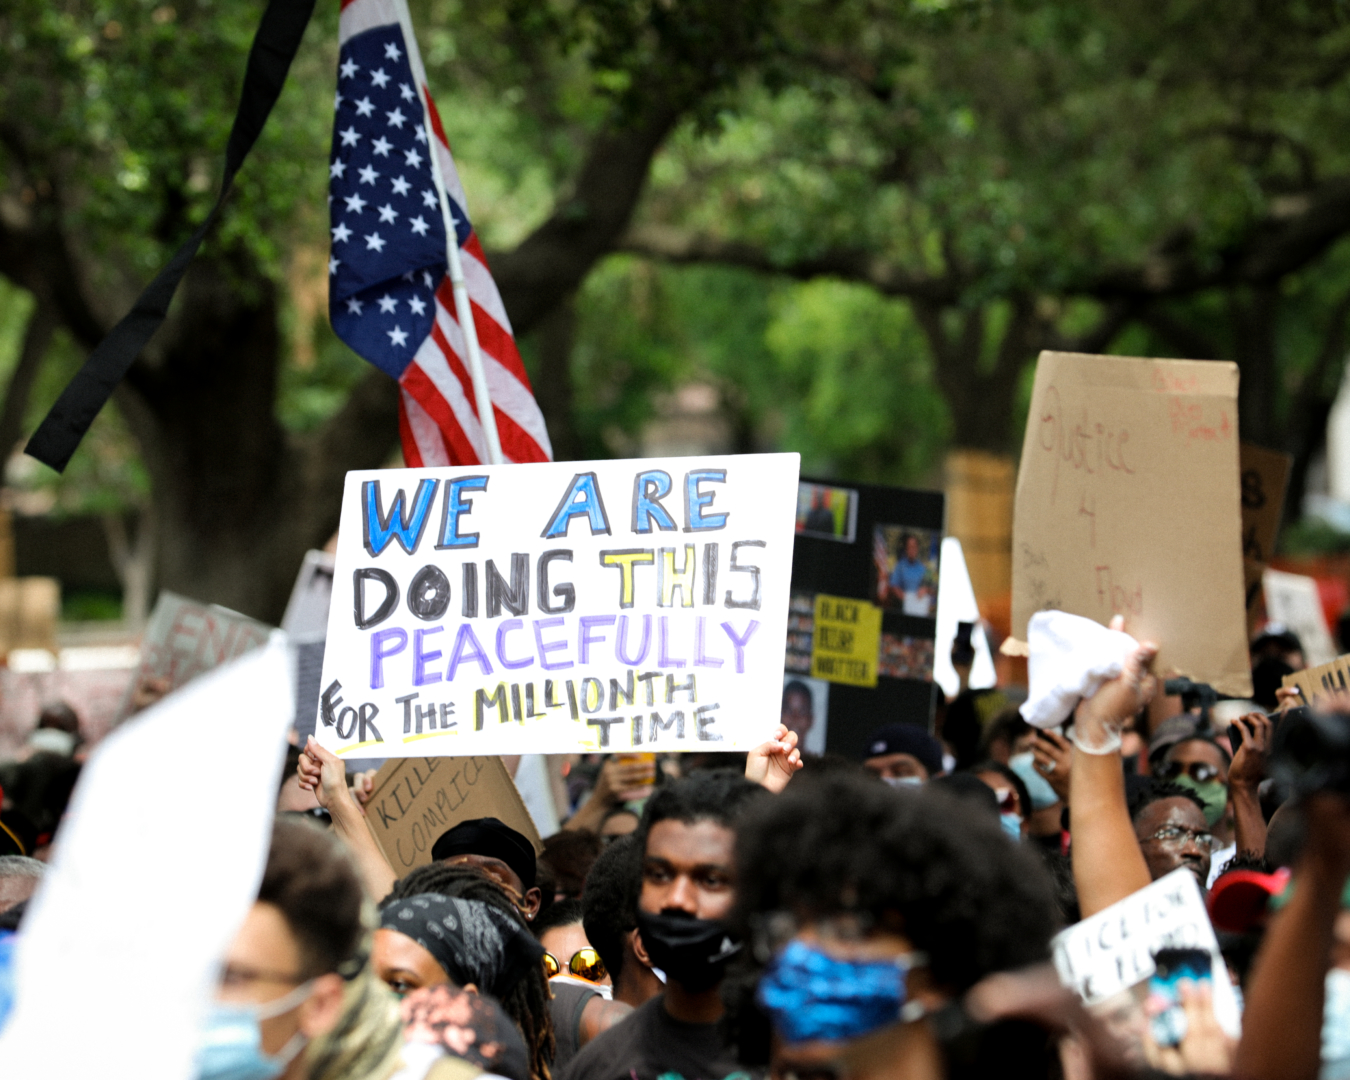nose: (654, 894, 695, 914), (1177, 845, 1205, 858)
